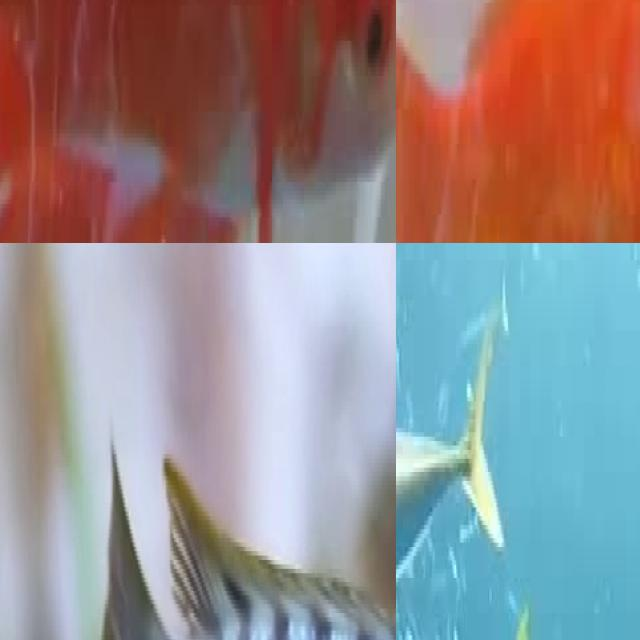fish: (0, 0, 396, 243), (396, 0, 640, 243)
